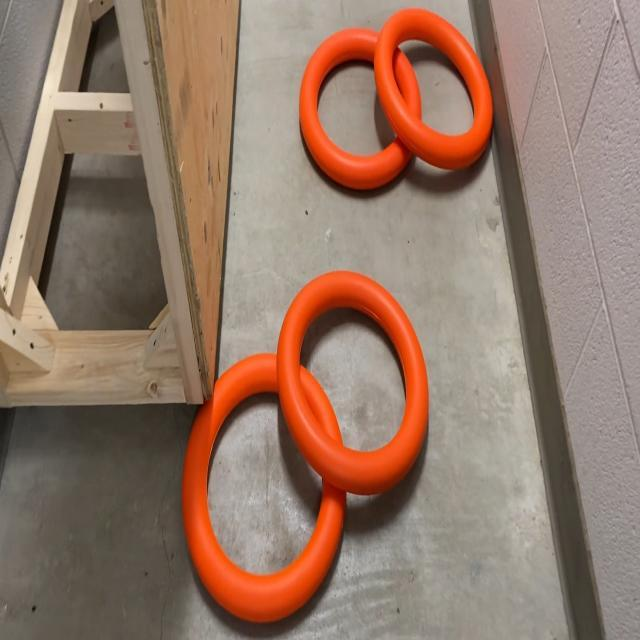note: (182, 350, 346, 624), (278, 266, 429, 496), (300, 27, 422, 191), (376, 5, 494, 174)
